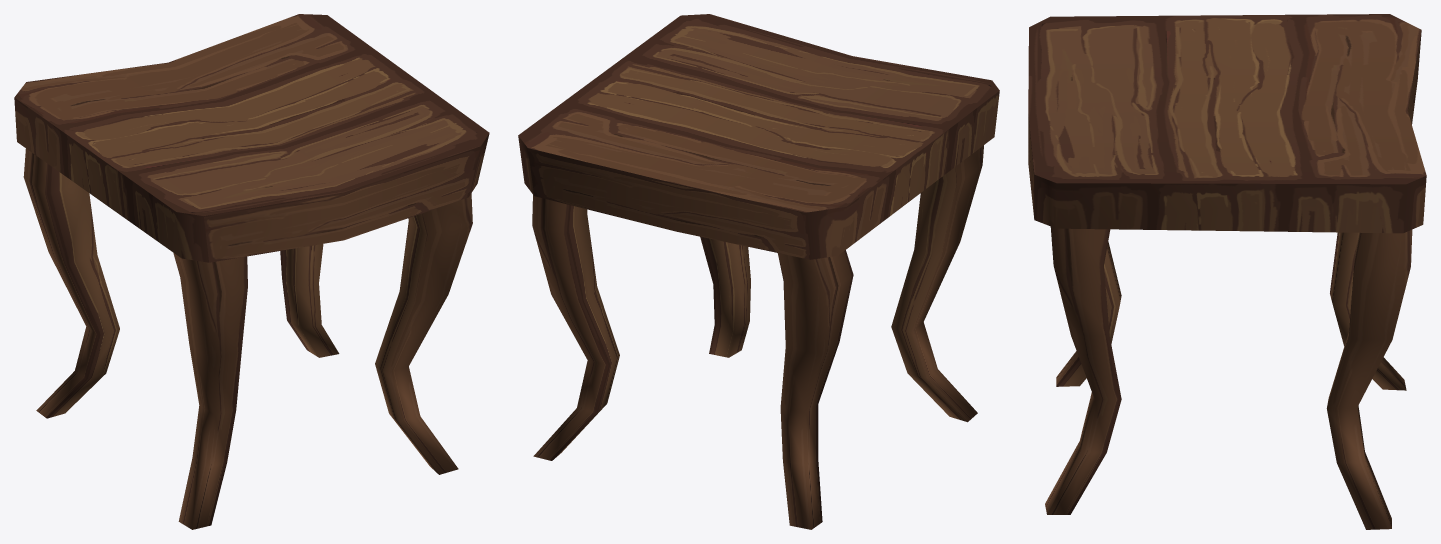
The model's file is SM_PROP_stool_interior.fbx.
3 views of the same model, side by side, from view 1: azimuth 30°, elevation 25°; view 2: azimuth 150°, elevation 25°; view 3: azimuth 270°, elevation 25° (orthographic). The views are drawn at different scales.
Visible parts, largest first — view 1: SM_PROP_stool_interior; view 2: SM_PROP_stool_interior; view 3: SM_PROP_stool_interior.
Boxes of the visible parts, <box> form: SM_PROP_stool_interior: <box>14,14,489,529</box>; SM_PROP_stool_interior: <box>518,14,999,529</box>; SM_PROP_stool_interior: <box>1028,14,1426,529</box>.
Size of the model in its own units: 51.56 by 49.93 by 51.41.
